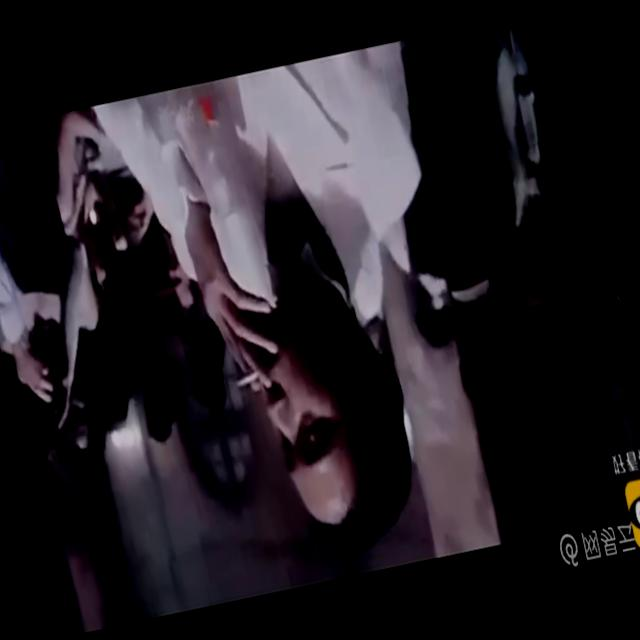cigarette: (234, 358, 272, 392)
